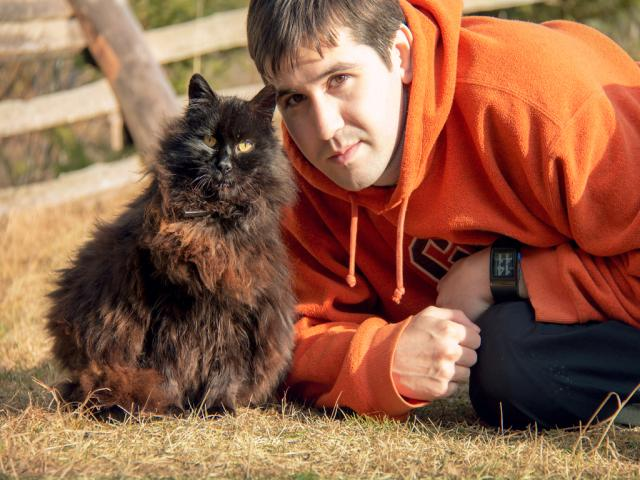Cat: (39, 73, 302, 425)
